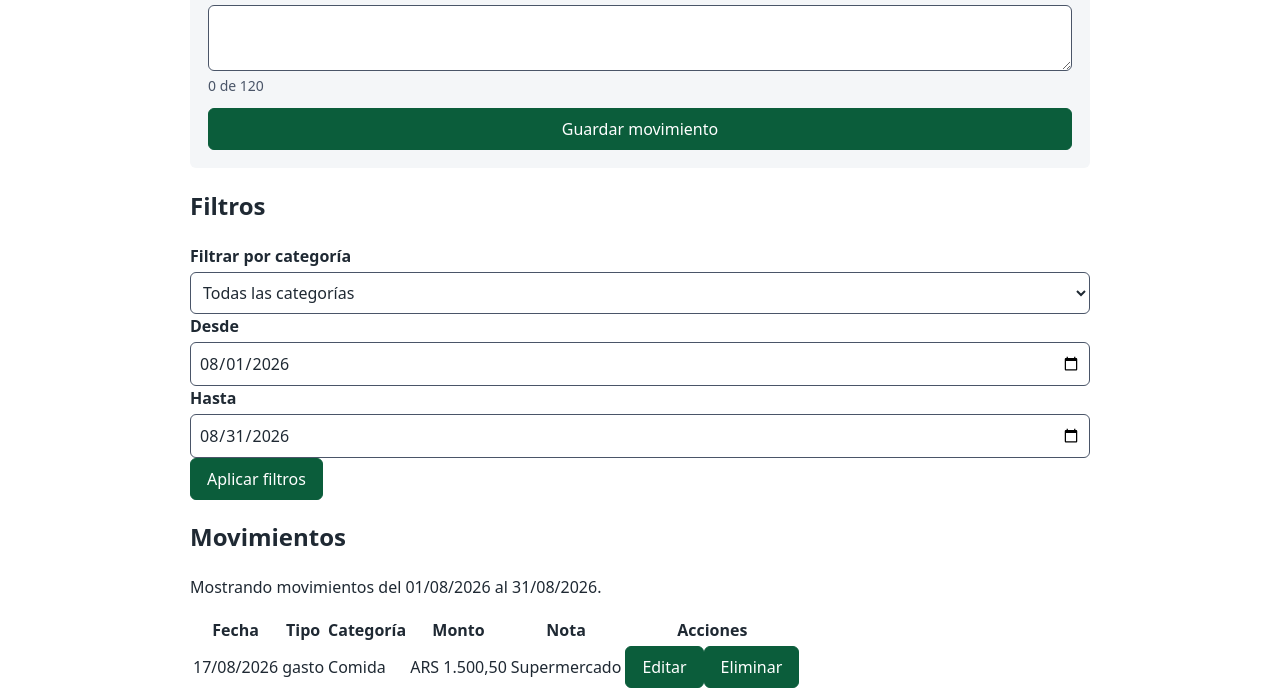
Scenario: App › Editar_CambiandoLaFechaFueraDelRango_QuitaLaFilaDelListado
(page scrolled)
Check: the text "ARS 1.500,50" is shown, box [409,645,508,689]
Click the button with aria-label "Editar el movimiento del 17/08/2026 de Comida". click: [664, 667]
box: [625,646,704,688]
(page scrolled)
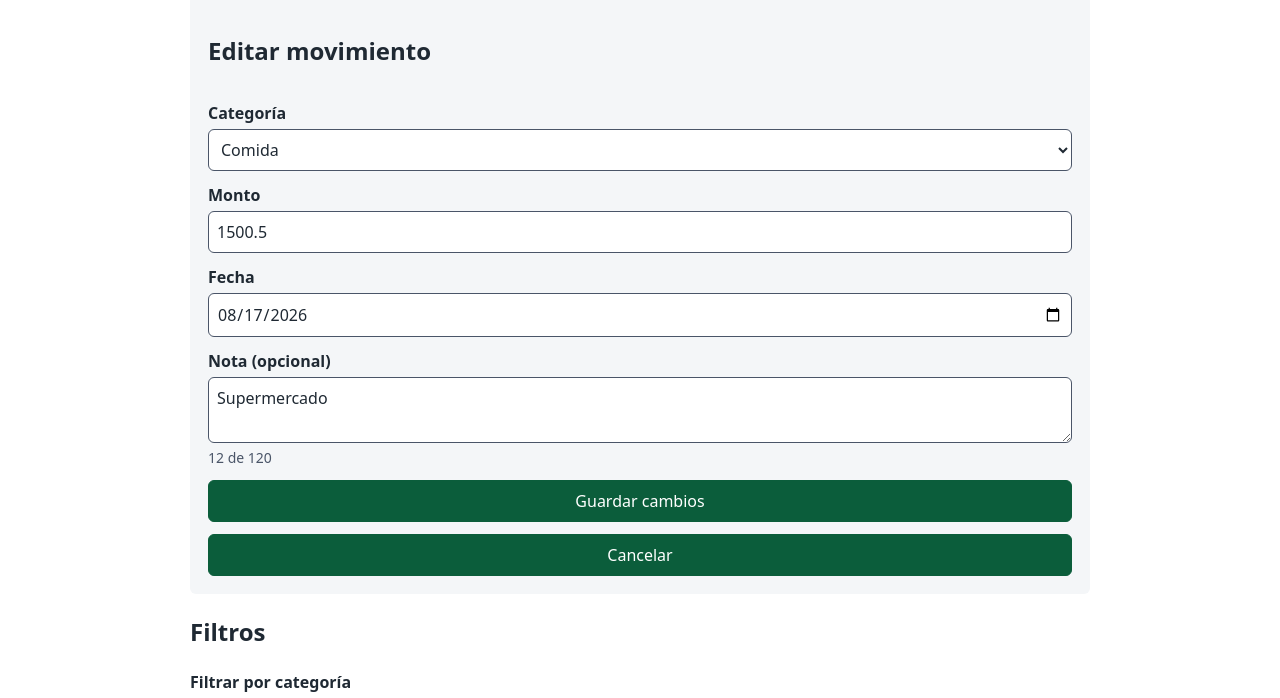
Check: the heading "Editar movimiento" is shown, box [208,34,431,67]
Type "2026-09-05" into the date field labelled "Fecha". click: [640, 315]
box: [208,293,1072,337]
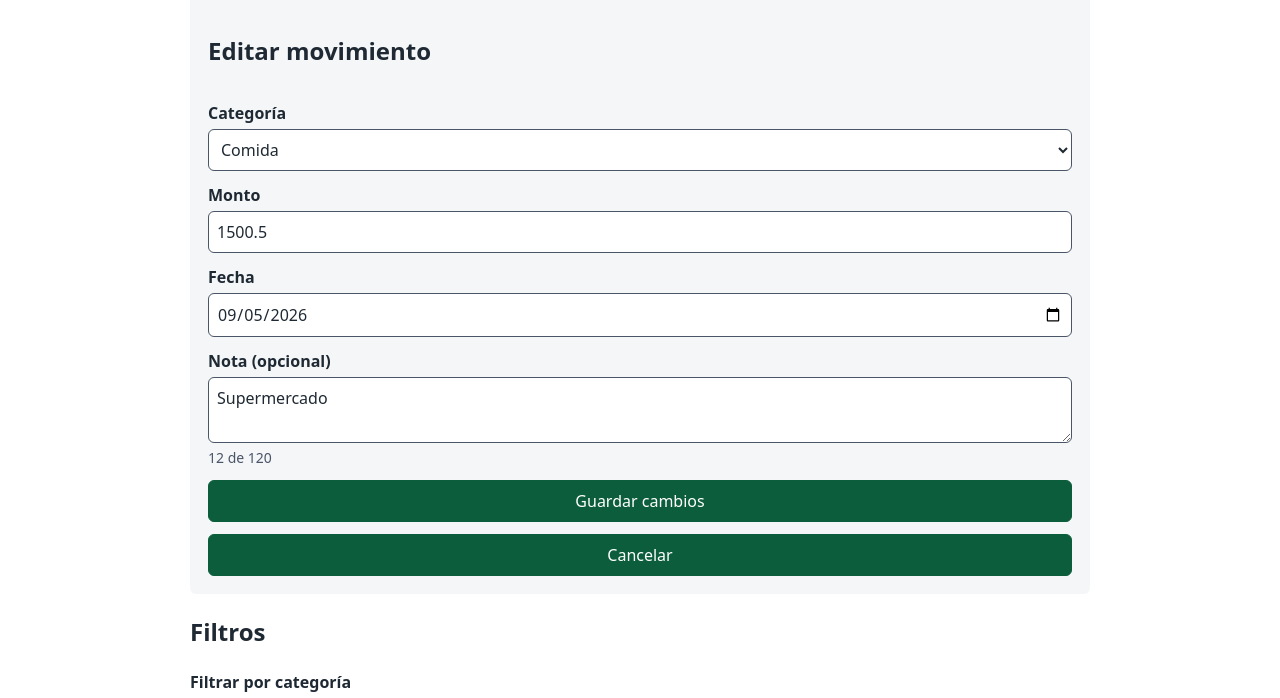
Click the button "Guardar cambios". click: [640, 501]
box: [208,480,1072,522]
(page scrolled)
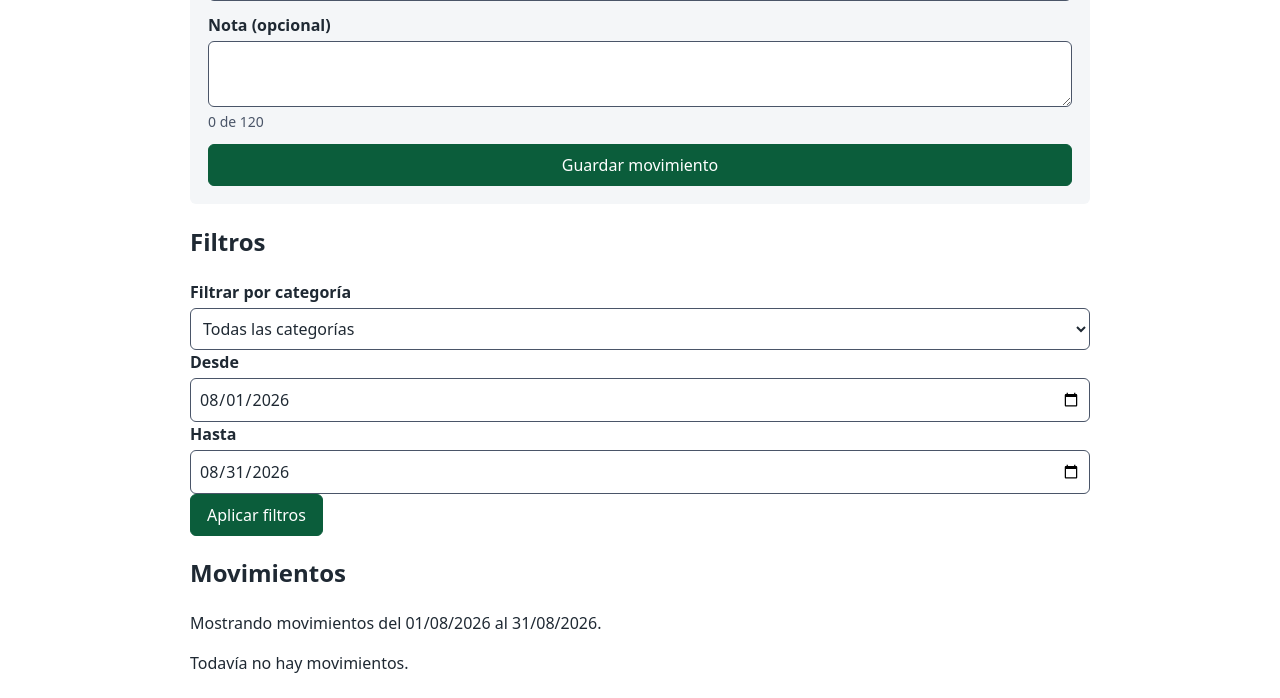
Check: the text "Mostrando movimientos del 01/08/2026 al 31/08/2026." is shown, box [190,612,601,634]
Check: the text "Todavía no hay movimientos." is shown, box [190,652,409,674]
